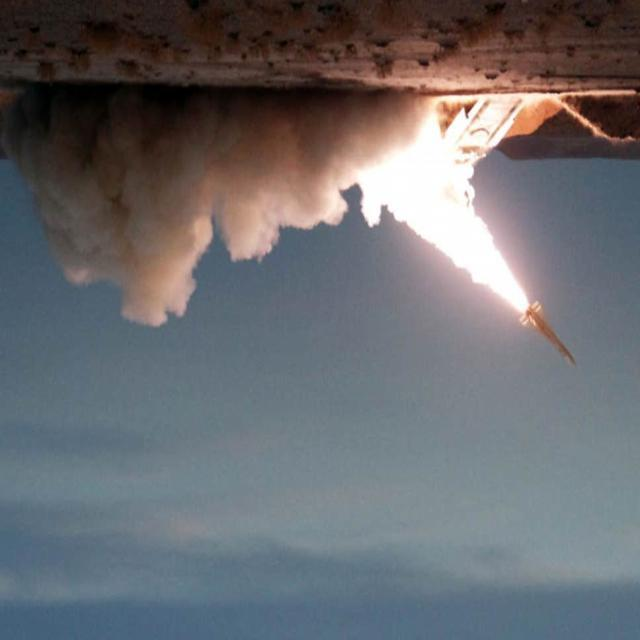missile: (510, 298, 580, 376)
